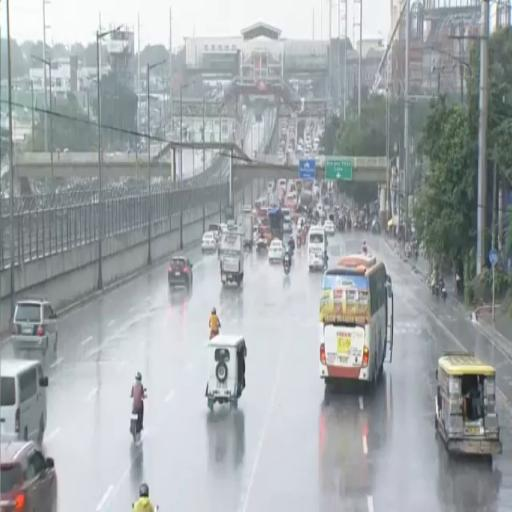bus: (320, 254, 393, 383)
car: (0, 442, 57, 511), (11, 298, 58, 354), (168, 256, 193, 289), (268, 239, 284, 263), (202, 232, 217, 252), (324, 220, 335, 235), (268, 181, 273, 191)
jeepney: (435, 352, 501, 455)
motorcycle: (130, 411, 142, 441), (256, 238, 267, 254), (438, 282, 446, 301), (431, 282, 440, 298), (283, 260, 290, 275), (210, 330, 219, 340), (405, 244, 411, 259), (324, 253, 328, 269), (297, 237, 301, 248), (132, 504, 134, 509)
truck: (220, 221, 244, 285), (242, 205, 253, 250), (269, 207, 283, 239)
